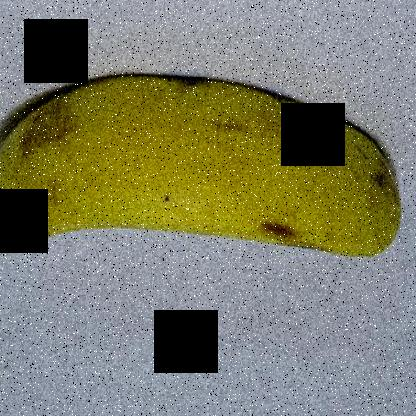freshripe: (1, 51, 404, 290)
